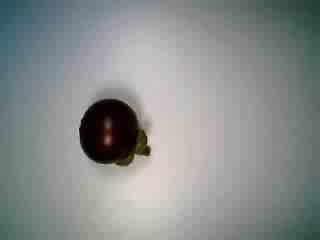mangosteen: (74, 92, 155, 169)
